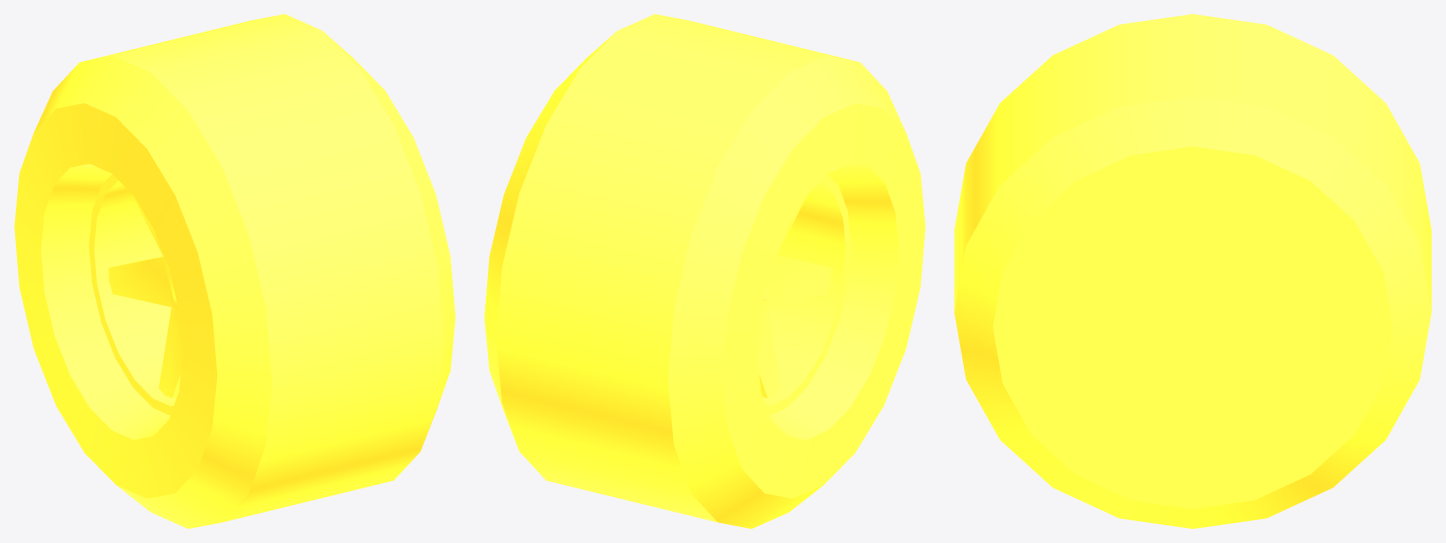
File: gold-formula-wheel.glb
3 views of the same model, side by side, from view 1: azimuth 30°, elevation 25°; view 2: azimuth 150°, elevation 25°; view 3: azimuth 270°, elevation 25° (orthographic).
Visible parts, largest first — view 1: model; view 2: model; view 3: model.
Boxes of the visible parts, x1,y1,x2,y2 form: model: [14, 14, 455, 528]; model: [484, 14, 925, 528]; model: [954, 14, 1431, 528].
Bounding box in the file's own units: 0.4246 × 0.7369 × 0.7369.
